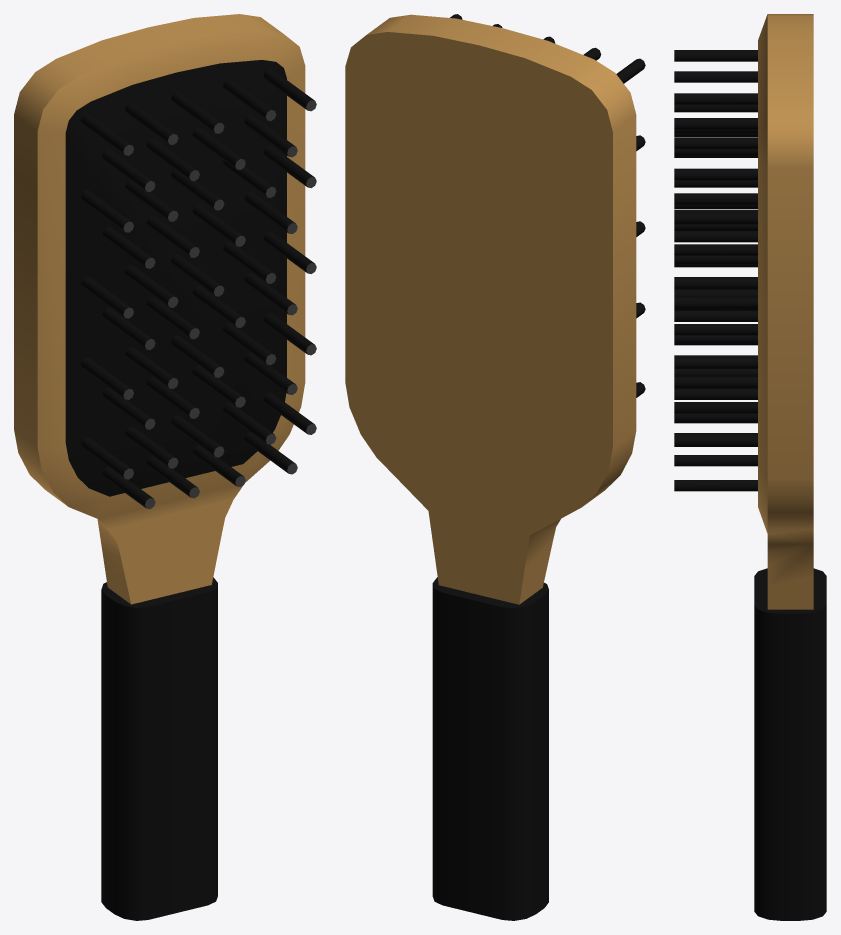
Rendered from CombBrush.fbx.
3 views of the same model, side by side, from view 1: azimuth 30°, elevation 25°; view 2: azimuth 150°, elevation 25°; view 3: azimuth 270°, elevation 25° (orthographic). The views are drawn at different scales.
Parts seen in each view (by area): view 1: brush; view 2: brush; view 3: brush.
Part boxes in pixels (x1,y1,x2,y2): brush: (14,14,316,920); brush: (345,14,645,920); brush: (674,14,826,920).
Size of the model in its own units: 0.3176 by 0.9783 by 0.1598.
